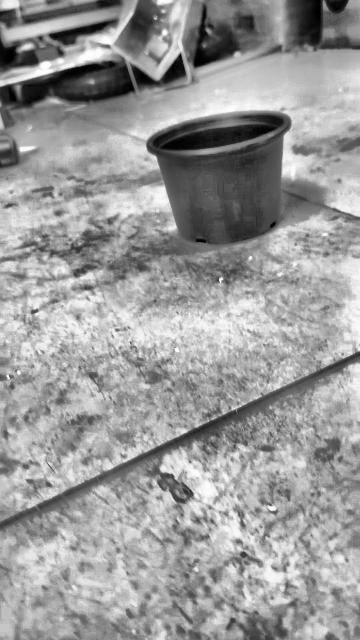pot: (147, 111, 289, 244)
